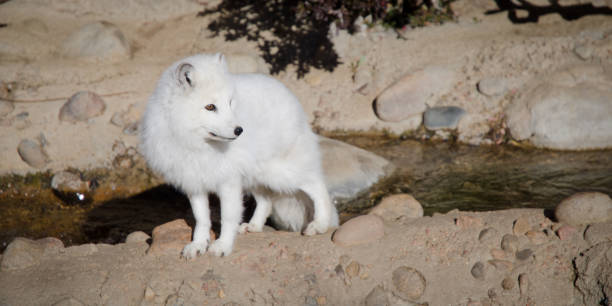arcticfox: (175, 77, 266, 154)
